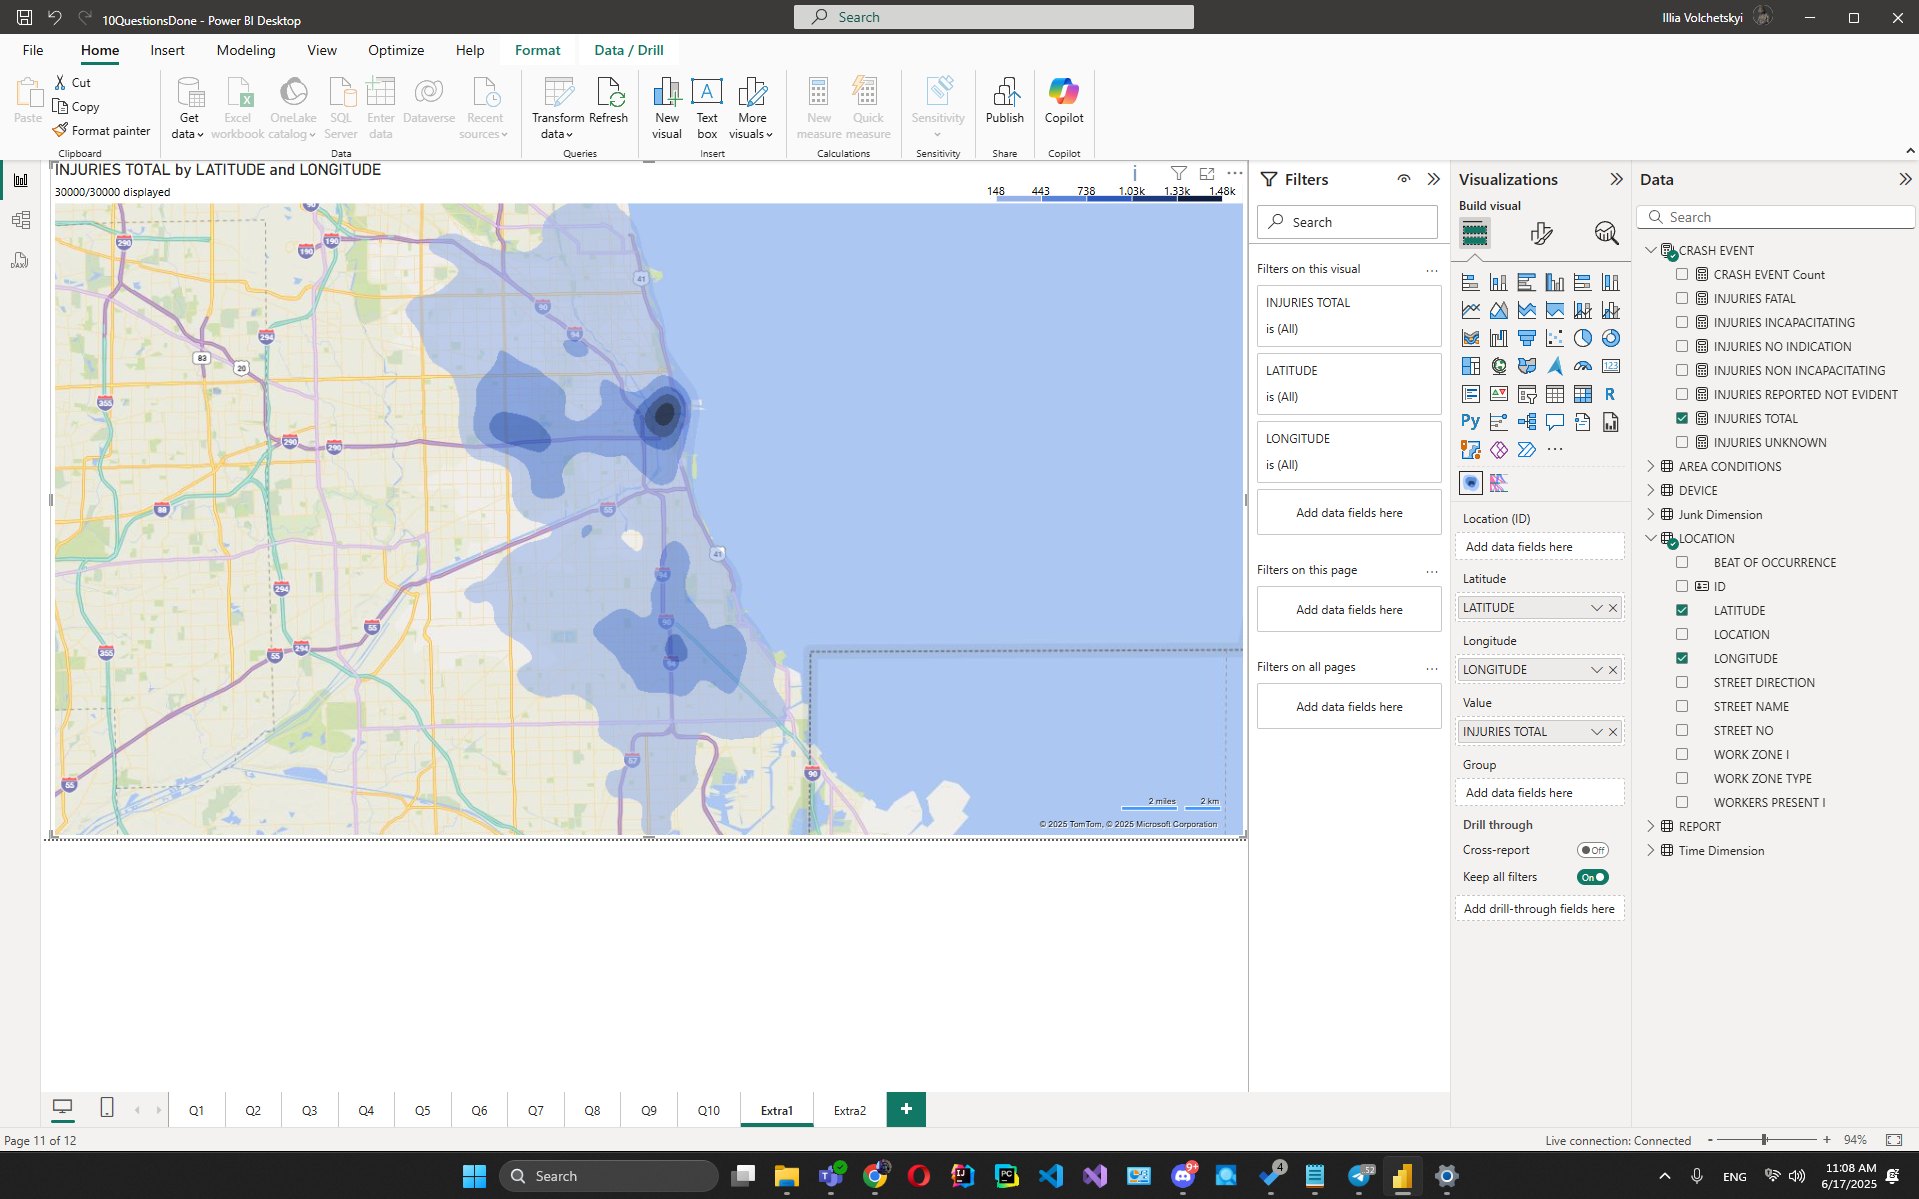

This screenshot's page, from the dashboard's own definition file:
{"tool":"powerbi","page":{"name":"Extra1","canvas":[1280,720],"ordinal":10},"visuals":[{"type":"unknown","box":[9.5,0,1270.5,720.5],"z":0}]}

Visuals, with their boxes on the page's 1280x720 design canvas (x1, y1, x2, y2). These are canvas units, not pixel positions in the 1919x1199 screenshot, which may show the page scaled, cropped or inside an application window:
unknown: {"left": 10, "top": 0, "right": 1280, "bottom": 720}
